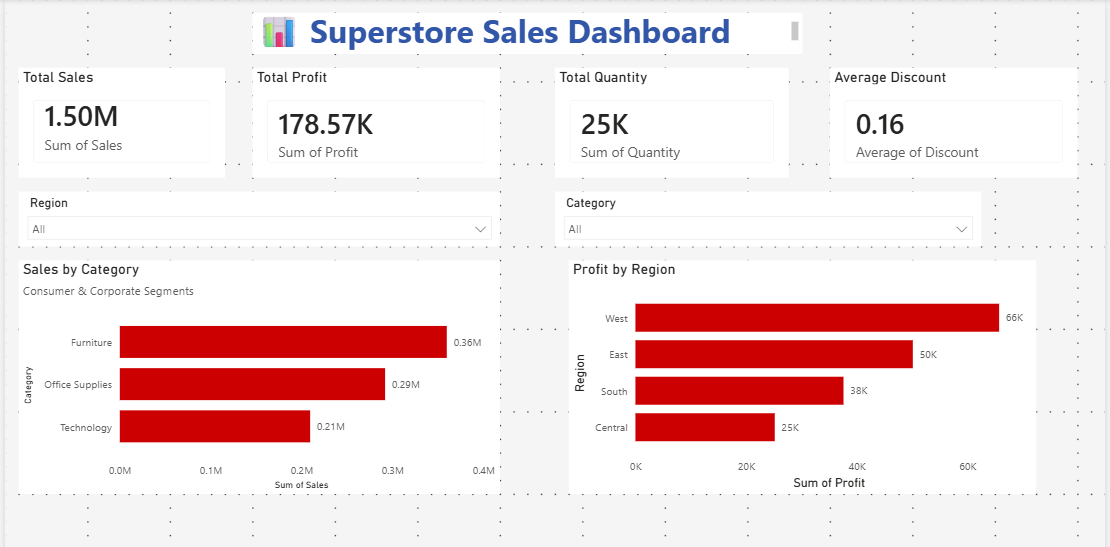

What the dashboard file says about the page in this screenshot:
{"tool":"powerbi","page":{"name":"Page 1","canvas":[1280,720],"ordinal":0},"visuals":[{"type":"cardVisual","title":"Total Sales","fields":{"Data":["Sum(Sample - Superstore.Sales)"]},"box":[16,80,240,128],"z":0},{"type":"cardVisual","title":"Total Profit","fields":{"Data":["Sum(Sample - Superstore.Profit)"]},"box":[288,80,288,128],"z":1},{"type":"cardVisual","title":"Total Quantity","fields":{"Data":["Sum(Sample - Superstore.Quantity)"]},"box":[640,80,272,128],"z":2},{"type":"cardVisual","title":"Average Discount","fields":{"Data":["Avg(Sample - Superstore.Discount)"]},"box":[960,80,288,128],"z":3},{"type":"clusteredBarChart","title":"Sales by Category","fields":{"Category":["Sample - Superstore.Category"],"Y":["Sum(Sample - Superstore.Sales)"]},"box":[16,304,560,272],"z":4},{"type":"clusteredBarChart","title":"Profit by Region","fields":{"Category":["Sample - Superstore.Region"],"Y":["Sum(Sample - Superstore.Profit)"]},"box":[656,304,544,272],"z":5},{"type":"slicer","fields":{"Values":["Sample - Superstore.Region"]},"box":[16,224,560,64],"z":6},{"type":"slicer","fields":{"Values":["Sample - Superstore.Category"]},"box":[640,224,496,64],"z":7},{"type":"textbox","box":[288,16,640,48],"z":8}]}

Visuals, with their boxes on the page's 1280x720 design canvas (x1, y1, x2, y2). These are canvas units, not pixel positions in the 1110x547 screenshot, which may show the page scaled, cropped or inside an application window:
"Total Sales" cardVisual: x1=16 y1=80 x2=256 y2=208
"Total Profit" cardVisual: x1=288 y1=80 x2=576 y2=208
"Total Quantity" cardVisual: x1=640 y1=80 x2=912 y2=208
"Average Discount" cardVisual: x1=960 y1=80 x2=1248 y2=208
"Sales by Category" clusteredBarChart: x1=16 y1=304 x2=576 y2=576
"Profit by Region" clusteredBarChart: x1=656 y1=304 x2=1200 y2=576
slicer - Sample - Superstore.Region: x1=16 y1=224 x2=576 y2=288
slicer - Sample - Superstore.Category: x1=640 y1=224 x2=1136 y2=288
textbox: x1=288 y1=16 x2=928 y2=64
